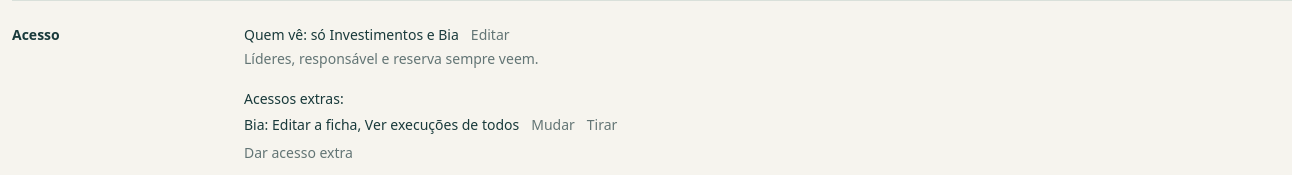
Test: lists extra accesses with their labels and removes one
Expected: the text "Quem vê: só Investimentos e Bia" is shown, [244,25,459,45]
Expected: the text "Bia: Editar a ficha, Ver execuções de todos" is shown, [244,115,519,135]
Click the button with aria-label "Tirar Bia" at (602, 125), box [587,115,617,135]
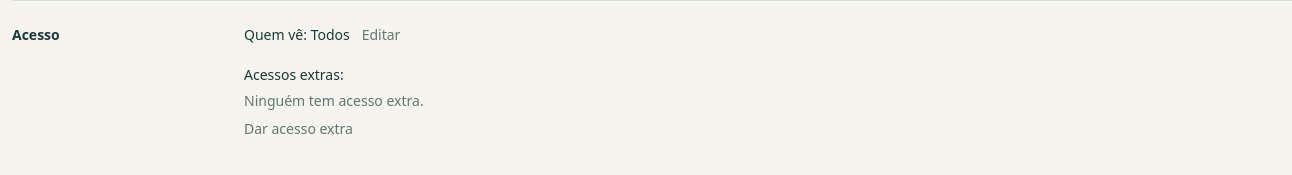
Now the text "Ninguém tem acesso extra." is shown, box [244,91,424,110]
